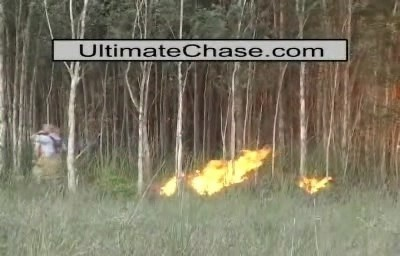fire: (156, 146, 274, 197), (294, 170, 336, 195)
